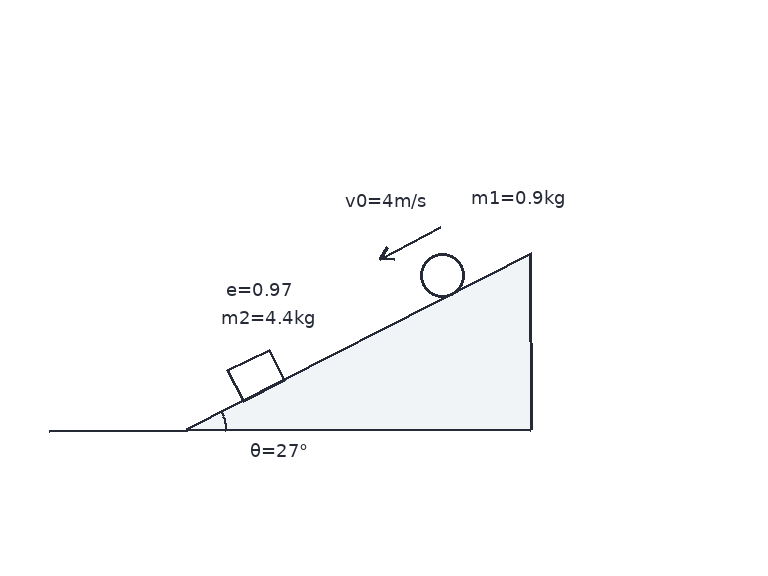ball: (418, 251, 466, 299)
block: (225, 348, 286, 403)
ramp: (184, 253, 532, 432)
